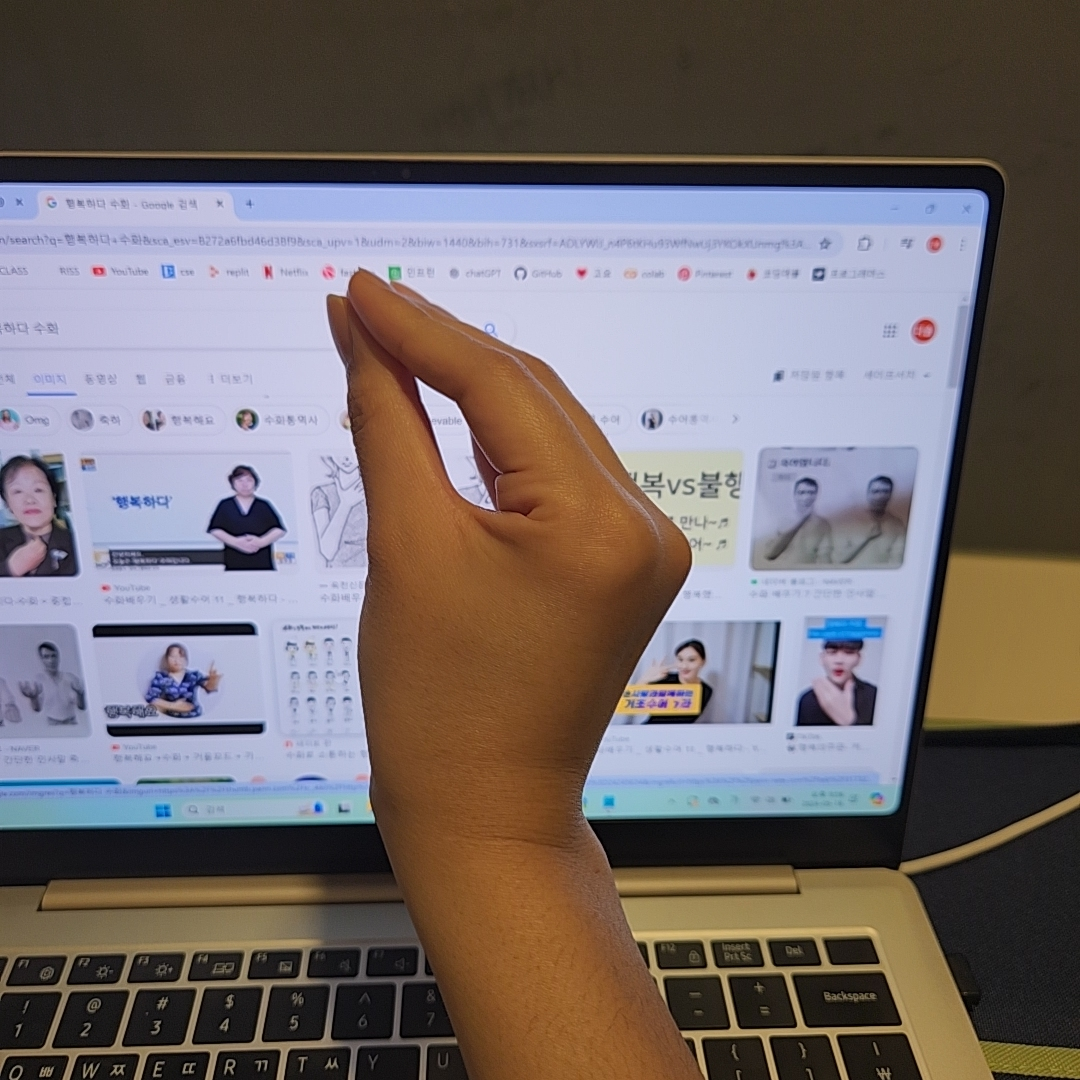happy: (325, 268, 691, 825)
